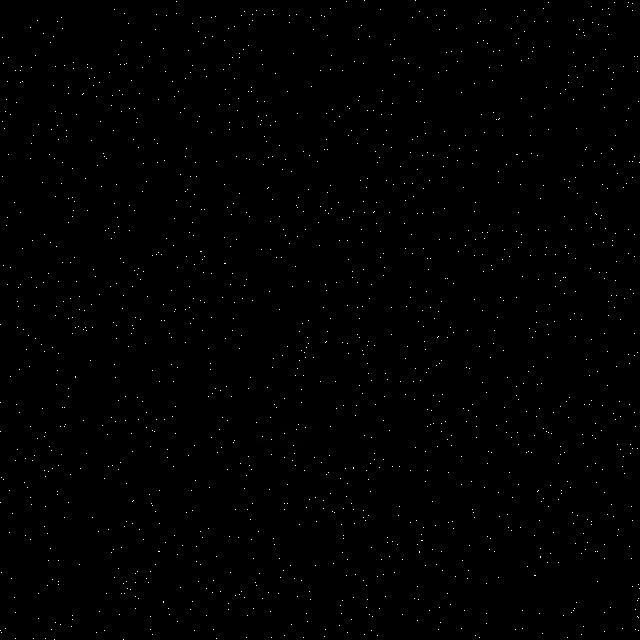Ograniczenie predkosci do 120: (7, 19, 557, 569)
